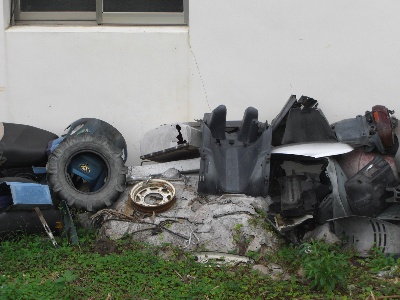tire: (47, 133, 129, 209)
